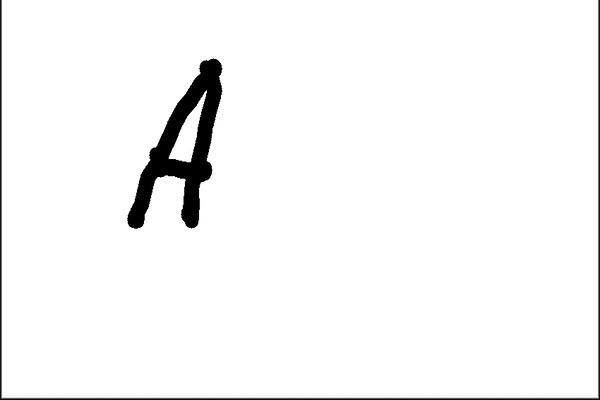A: (99, 48, 239, 241)
